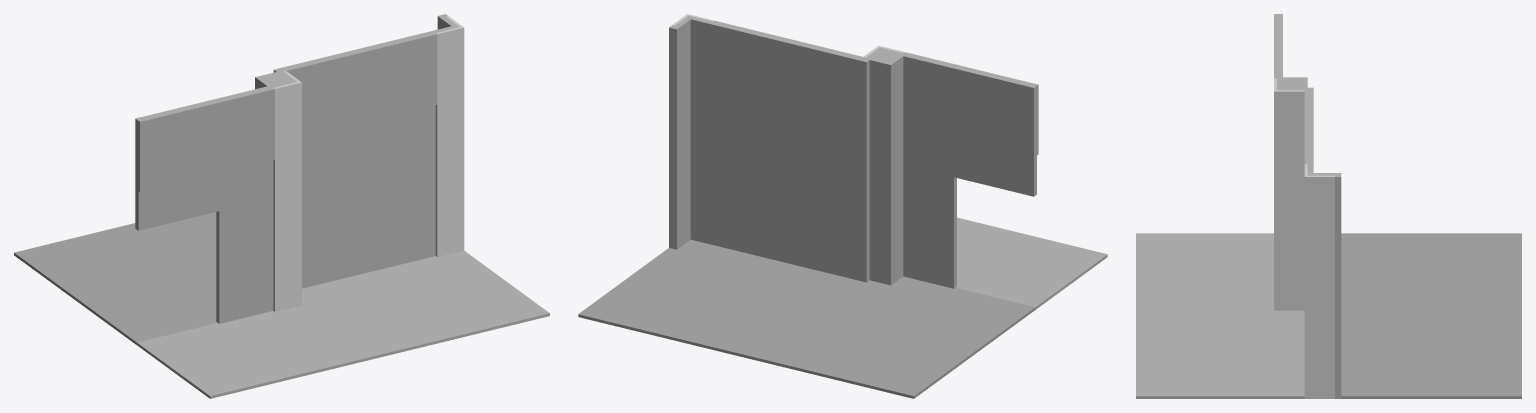
File: 4x2 first (1)-14.obj
The picture shows the model from 3 angles, left to right: view 1: azimuth 30°, elevation 25°; view 2: azimuth 150°, elevation 25°; view 3: azimuth 270°, elevation 25°; orthographic projection.
Visible parts, largest first — view 1: 4x2 first (1)-6; view 2: 4x2 first (1)-6; view 3: 4x2 first (1)-6.
Part boxes in pixels (x1,y1,x2,y2): 4x2 first (1)-6: [14, 14, 549, 398]; 4x2 first (1)-6: [578, 14, 1107, 398]; 4x2 first (1)-6: [1136, 14, 1521, 398].
Size of the model in its own units: 126 by 80 by 126.
1 material, 1 textured.
